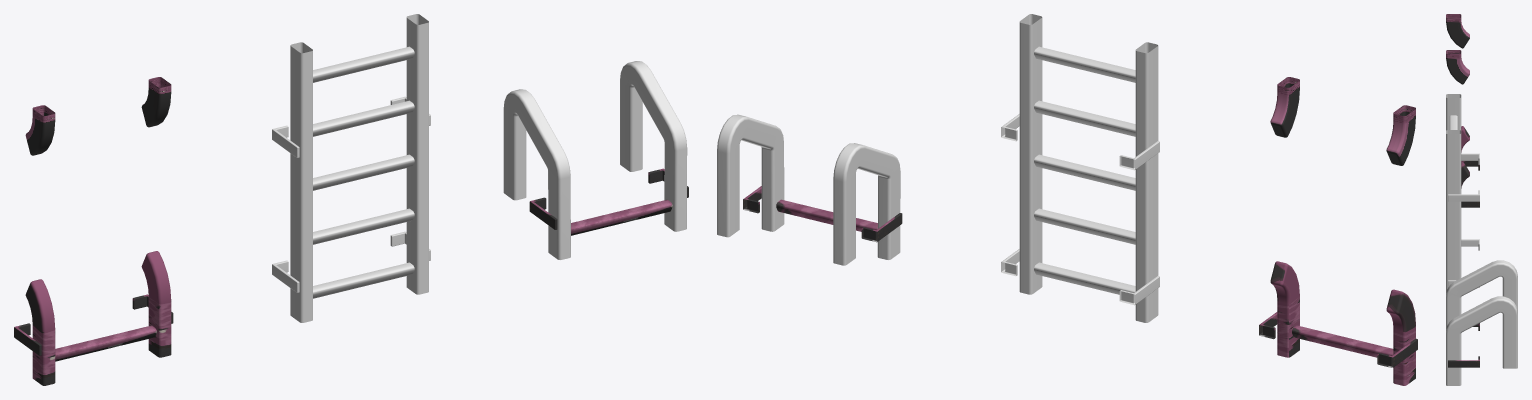
3 views of the same model, side by side, from view 1: azimuth 30°, elevation 25°; view 2: azimuth 150°, elevation 25°; view 3: azimuth 270°, elevation 25° (orthographic). The views are drawn at different scales.
Parts seen in each view (by area): view 1: middle_h, top_loop_h, top_h, bottom_h; view 2: middle_h, top_loop_h, top_h, bottom_h; view 3: top_loop_h, middle_h, bottom_h, top_h.
Boxes of the visible parts, x1,y1,x2,y2 form: middle_h: (272, 14, 430, 322); top_loop_h: (503, 61, 688, 259); top_h: (14, 251, 173, 385); bottom_h: (25, 77, 171, 155); middle_h: (1001, 14, 1159, 322); top_loop_h: (717, 114, 902, 265); top_h: (1259, 261, 1417, 385); bottom_h: (1270, 77, 1415, 165); top_loop_h: (1446, 260, 1517, 385); middle_h: (1446, 94, 1479, 294); bottom_h: (1446, 14, 1469, 84); top_h: (1461, 126, 1479, 207).
Size of the model in its own units: 252 by 100 by 37.94.
